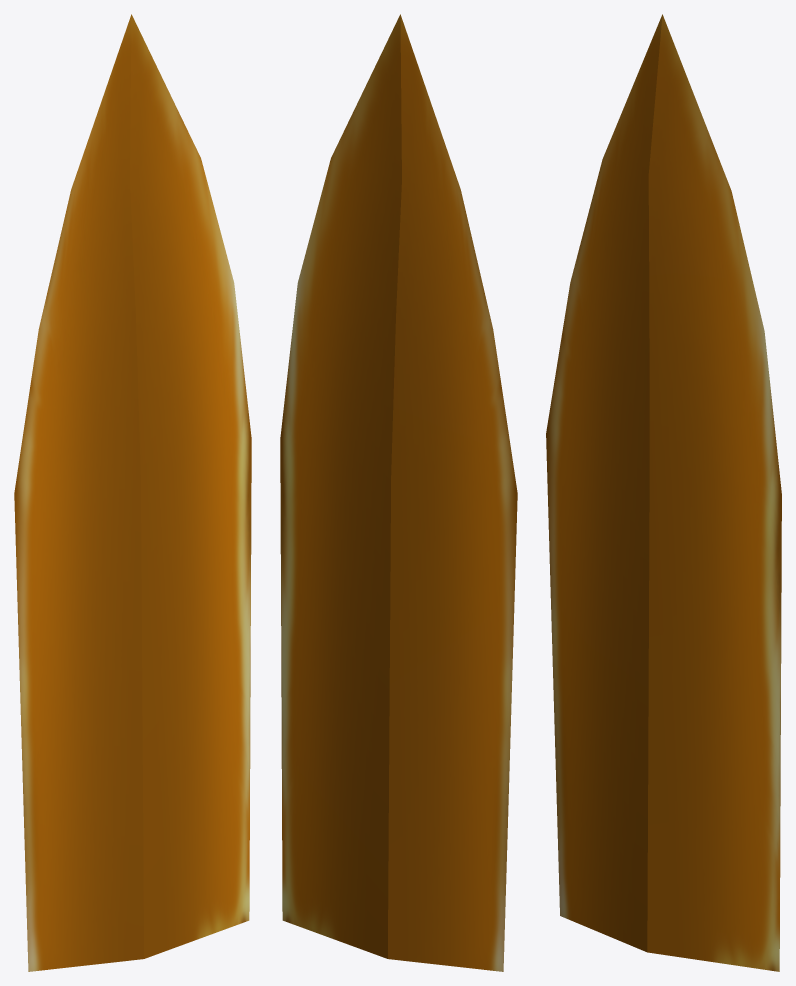
The model's file is qiantou_v01.FBX.
The picture shows the model from 3 angles, left to right: view 1: azimuth 30°, elevation 25°; view 2: azimuth 150°, elevation 25°; view 3: azimuth 330°, elevation 25°; orthographic projection.
Visible parts, largest first — view 1: Object99; view 2: Object99; view 3: Object99.
Boxes of the visible parts, left/top/right/bottom form: Object99: left=14, top=14, right=251, bottom=971; Object99: left=280, top=14, right=517, bottom=971; Object99: left=546, top=14, right=781, bottom=971.
Bounding box in the file's own units: 1.6 × 6.01 × 0.3255.
1 material, 1 textured.
